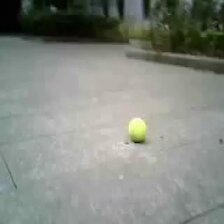tennis: (129, 117, 147, 143)
